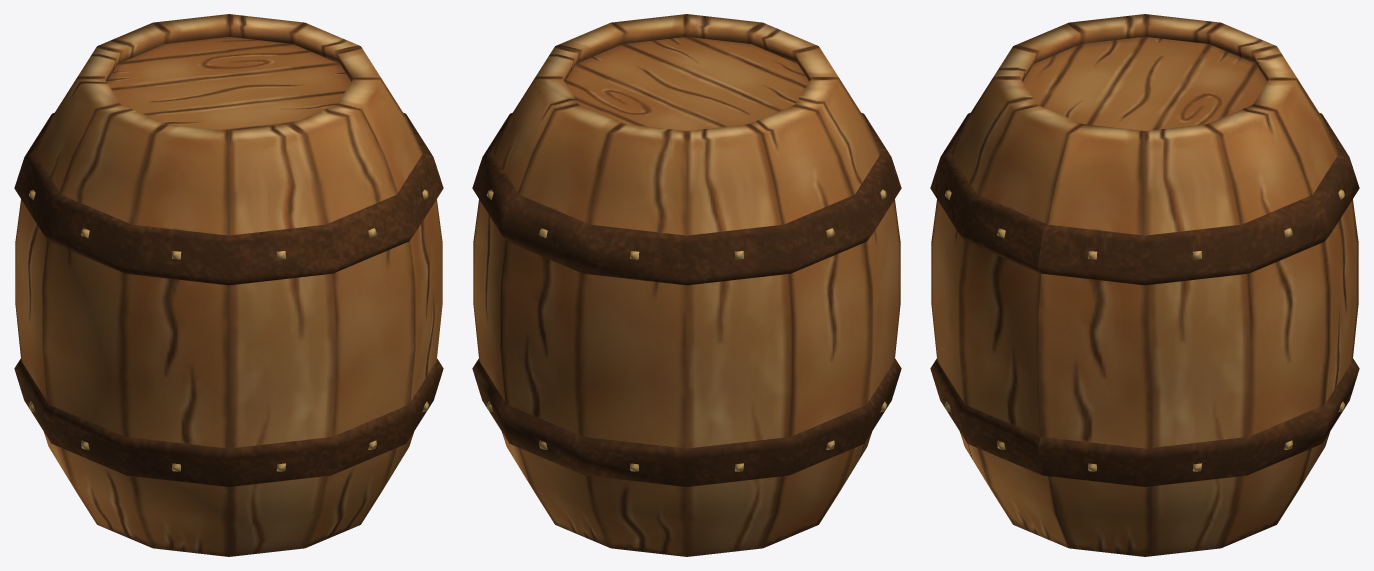
The picture shows the model from 3 angles, left to right: view 1: azimuth 30°, elevation 25°; view 2: azimuth 150°, elevation 25°; view 3: azimuth 270°, elevation 25°; orthographic projection.
Visible parts, largest first — view 1: 3DSMeshMatrix; view 2: 3DSMeshMatrix; view 3: 3DSMeshMatrix.
Part boxes in pixels (x1=…): 3DSMeshMatrix: x1=14, y1=14, x2=443, y2=556; 3DSMeshMatrix: x1=472, y1=14, x2=901, y2=556; 3DSMeshMatrix: x1=930, y1=14, x2=1359, y2=556.
Size of what is drawn, in the model's own units: 31 by 33 by 31.
Materials: 1 (1 with a texture image).
